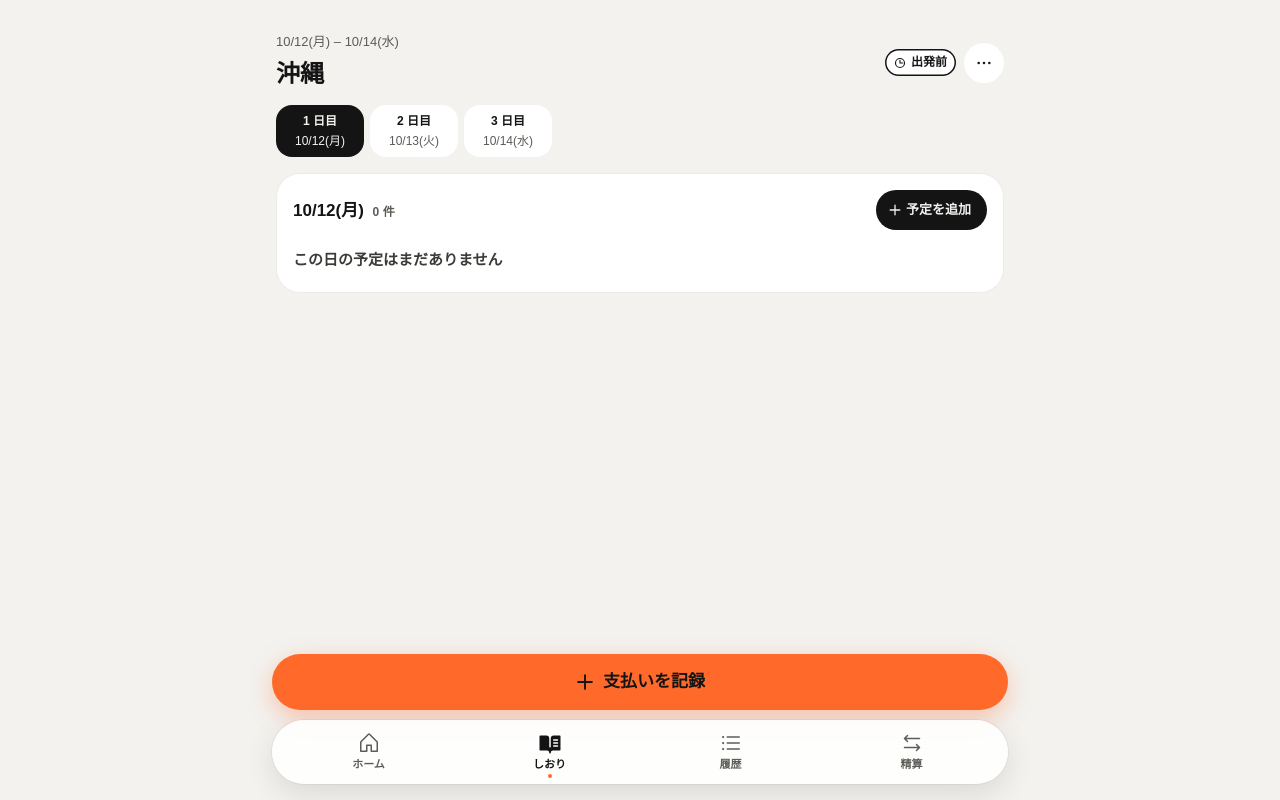
Scenario: ItineraryScreen (/trips/{id}/itinerary) › planning の旅行はメニューから開始できる
Expected: the heading "沖縄" is shown, x1=276 y1=60 x2=324 y2=87
Click the button named "旅行のメニュー" at (984,63), box x1=964 y1=43 x2=1004 y2=83
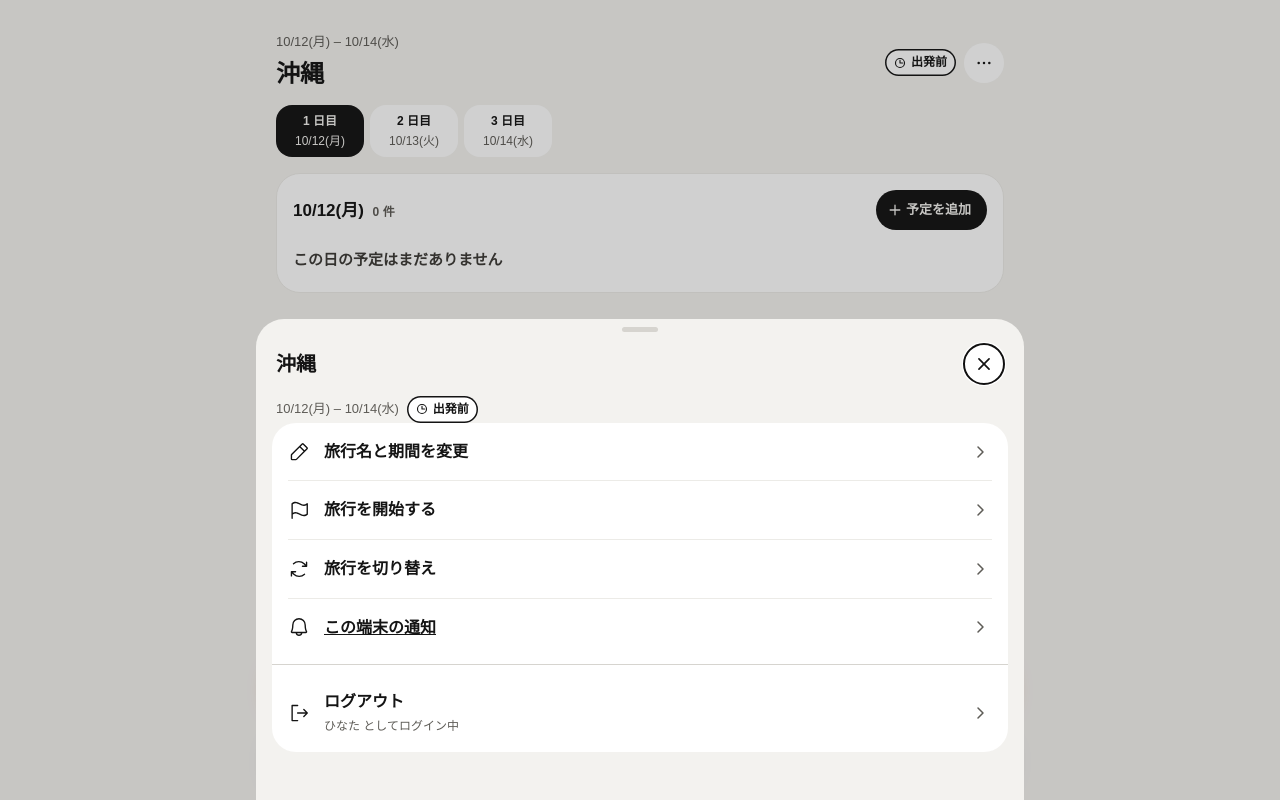
Expected: the button "旅行を開始する" is enabled
Click the button "旅行を開始する" at (380,510), box x1=288 y1=480 x2=992 y2=539
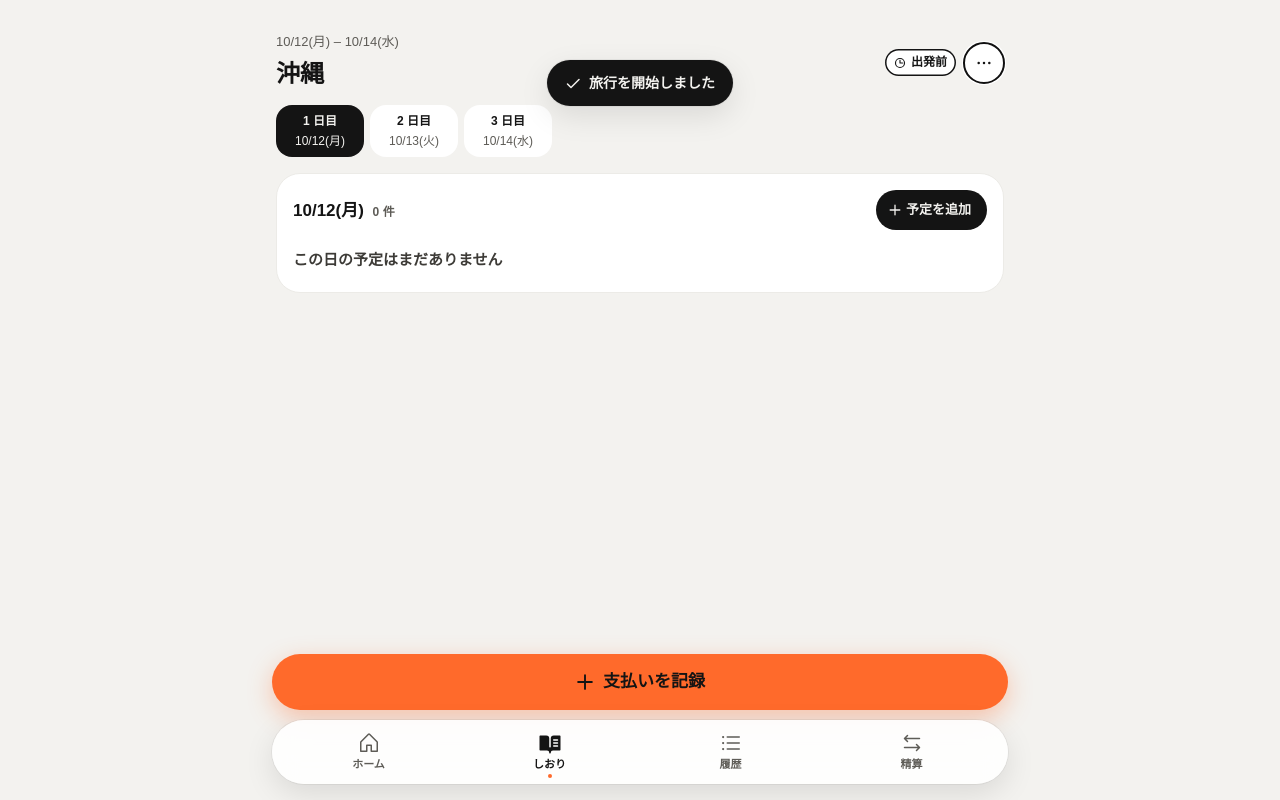
Expected: the text "旅行を開始しました" is shown, x1=547 y1=60 x2=733 y2=106
